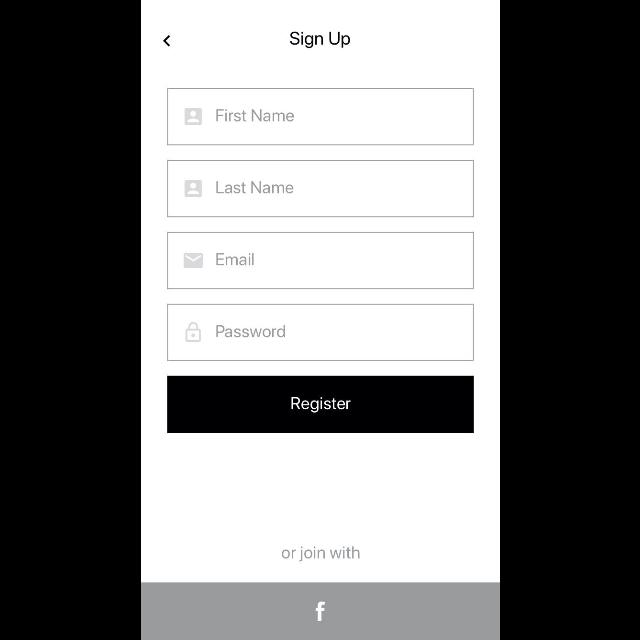icon: (184, 180, 202, 198), (184, 108, 202, 125), (186, 322, 200, 342), (184, 254, 202, 268), (162, 36, 170, 46)
input: (166, 88, 474, 146), (166, 160, 474, 218), (166, 232, 474, 290), (166, 304, 474, 362)
text: (280, 546, 360, 562), (290, 32, 350, 48), (216, 324, 284, 338), (215, 182, 293, 194), (216, 110, 294, 122), (215, 254, 252, 266)
textbutton: (140, 582, 500, 640), (166, 376, 474, 434)
